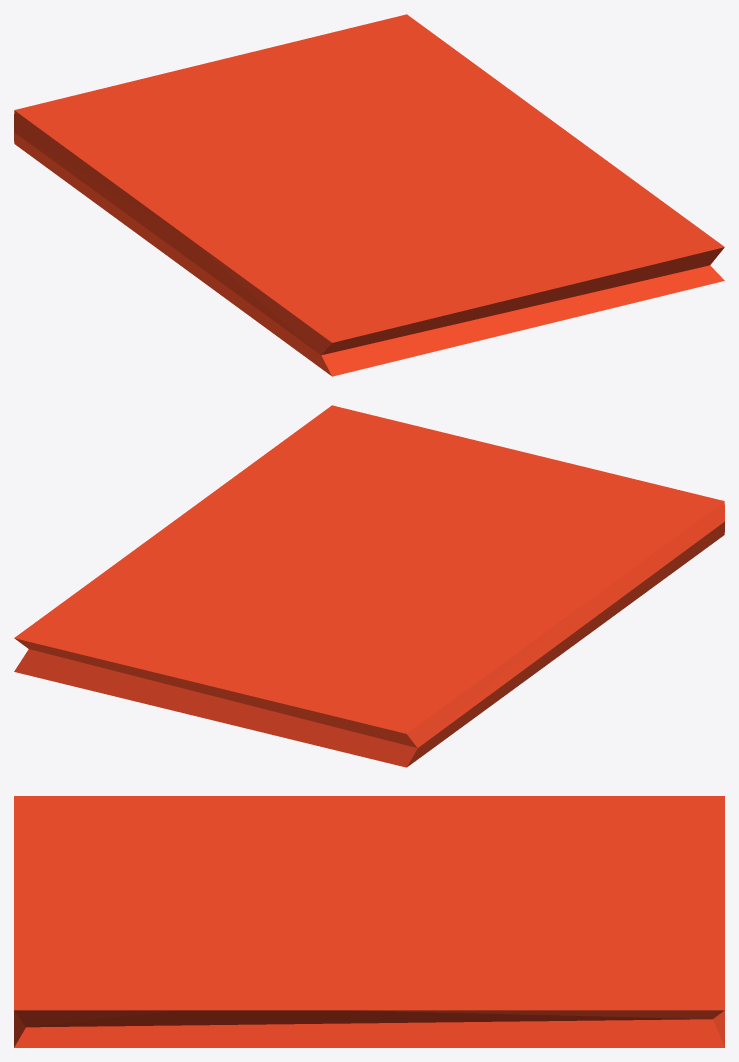
File: SM_Newspaper_Roar_City.fbx
The picture shows the model from 3 angles, top to bottom: view 1: azimuth 30°, elevation 25°; view 2: azimuth 150°, elevation 25°; view 3: azimuth 270°, elevation 25°; orthographic projection. The views are drawn at different scales.
Parts seen in each view (by area): view 1: SM_Newspaper_Roar_City; view 2: SM_Newspaper_Roar_City; view 3: SM_Newspaper_Roar_City.
Boxes of the visible parts, x1,y1,x2,y2 form: SM_Newspaper_Roar_City: (14,14,724,376); SM_Newspaper_Roar_City: (14,405,724,767); SM_Newspaper_Roar_City: (14,796,724,1047).
Size of the model in its own units: 0.2784 by 0.0225 by 0.385.
